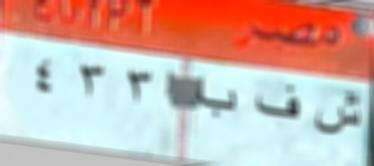3: (117, 66, 160, 104), (72, 60, 109, 98)
4: (26, 58, 60, 98)
baa: (188, 74, 242, 122)
faa: (252, 86, 305, 123)
sheen: (312, 88, 368, 138)
